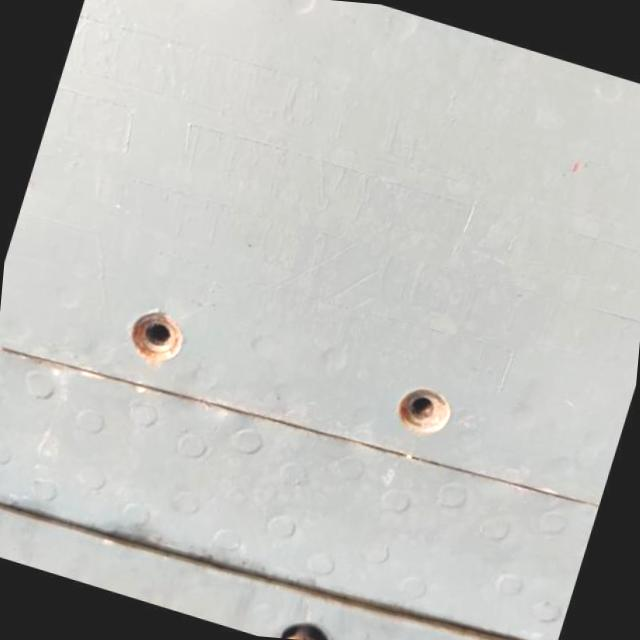Missing Fastener: (112, 296, 196, 379), (388, 378, 456, 438)
